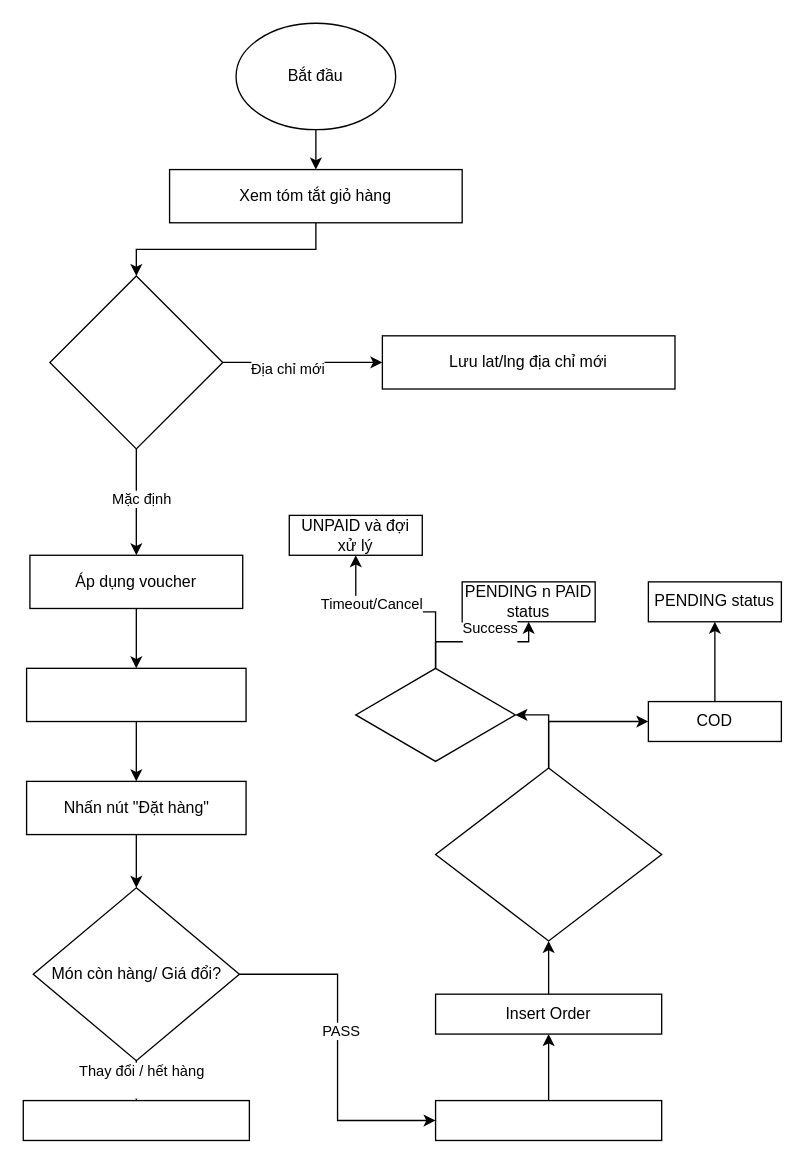
The diagram is 805 pixels wide and 1164 high, and some of its shapes have lost their labels. The centre of each missing label's shape, as x and y in pixels:
"Báo lỗi và Yêu cầu cập nhật" goes at [135,1119].
"Chuyển khoản" goes at [434,714].
"Chọn phương thức thanh toán" goes at [135,694].
"Chọn địa chỉ giao hàng" goes at [136,362].
"Khóa lượt sử dụng Voucher" goes at [548,1119].
"Phương thức thanh toán" goes at [548,854].
